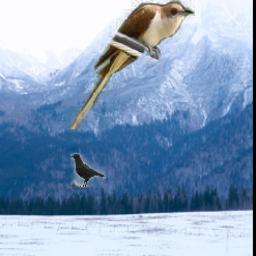Crow: (70, 154, 106, 189)
Cuckoo: (68, 0, 194, 131)
